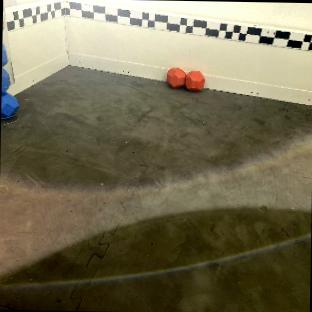V5_BLUE: (1, 44, 18, 118)
V5_RED: (165, 67, 204, 90)
